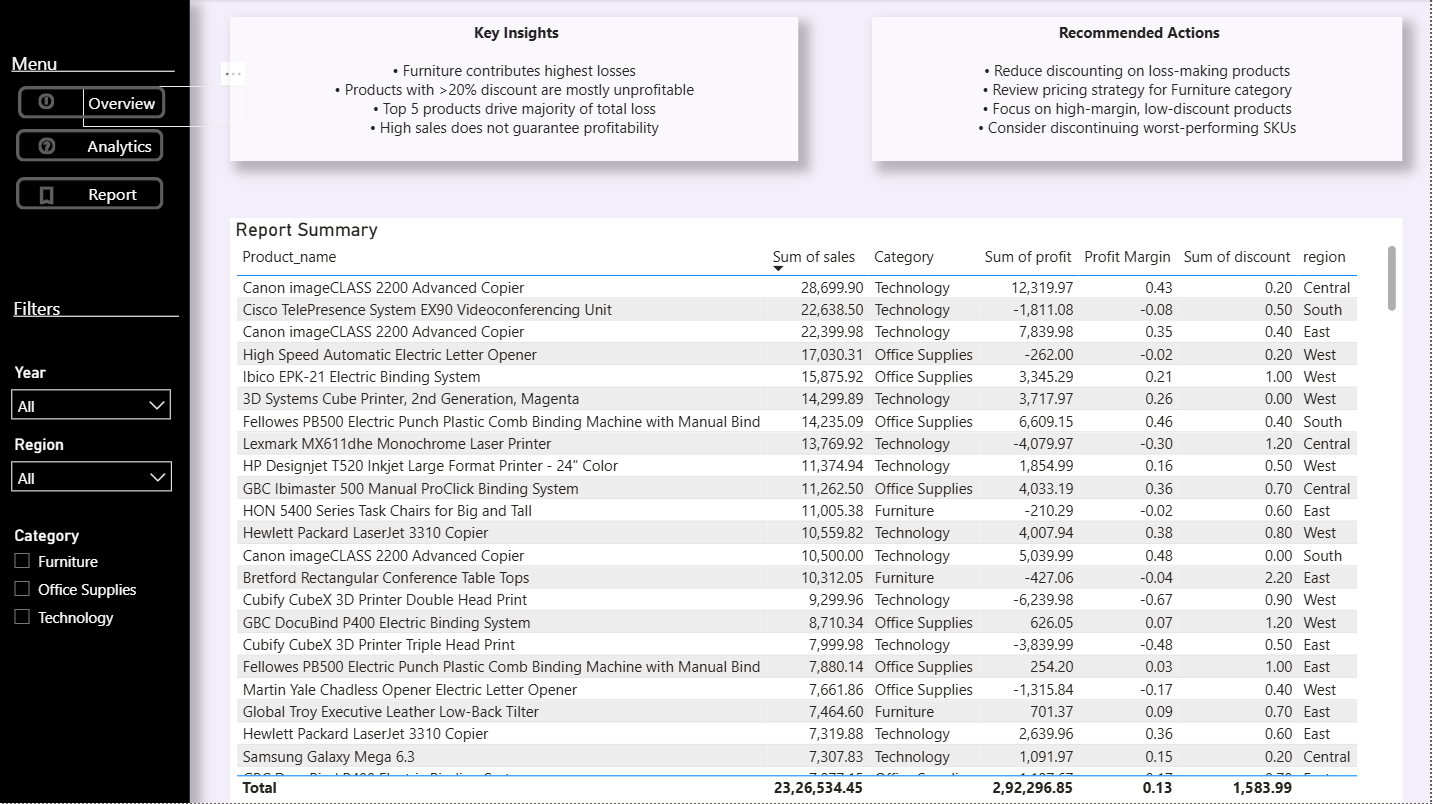

What the dashboard file says about the page in this screenshot:
{"tool":"powerbi","page":{"name":"Report","canvas":[1280,720],"ordinal":2},"visuals":[{"type":"tableEx","title":"Report Summary","fields":{"Values":["products_202604191955.Product_name","Sum(orders_202604191948.sales)","products_202604191955.Category","Sum(orders_202604191948.profit)","customers_202604191953.Profit Margin","Sum(orders_202604191948.discount)","customers_202604191953.region"]},"box":[205.8,196.2,1049.7,524.2],"z":0},{"type":"shape","box":[0,0,170,720.2],"z":1000},{"type":"slicer","fields":{"Values":["orders_202604191948.order_date.Variation.Date Hierarchy.Year"]},"box":[0,321.1,163.3,81],"z":2000},{"type":"textbox","box":[5.5,41.2,156.4,37],"z":3000},{"type":"textbox","box":[6.9,260.7,157.8,37],"z":4000},{"type":"slicer","fields":{"Values":["products_202604191955.Category"]},"box":[0,467.1,159,132.1],"z":5000},{"type":"slicer","fields":{"Values":["customers_202604191953.region"]},"box":[0,386.4,163.9,59.9],"z":6000},{"type":"textbox","box":[74.6,78.3,145.5,36.7],"z":7000},{"type":"textbox","box":[73.4,116.2,145.5,37.9],"z":8000},{"type":"textbox","box":[74.6,159,145.5,36.7],"z":9000},{"type":"actionButton","box":[30.6,80.7,58.7,22],"z":10000},{"type":"actionButton","box":[30.6,119.8,61.1,23.2],"z":11000},{"type":"actionButton","box":[29.3,163.9,61.1,24.5],"z":12000},{"type":"actionButton","box":[15.9,78.3,132.1,29.3],"z":13000},{"type":"actionButton","box":[14.7,116.2,132.1,29.3],"z":14000},{"type":"actionButton","box":[14.7,159,132.1,29.3],"z":15000},{"type":"textbox","box":[205.8,16.5,509.1,129],"z":16000},{"type":"textbox","box":[780.8,16.5,474.8,129],"z":17000}]}

Visuals, with their boxes on the page's 1280x720 design canvas (x1, y1, x2, y2). These are canvas units, not pixel positions in the 1433x804 screenshot, which may show the page scaled, cropped or inside an application window:
"Report Summary" tableEx: 206:196:1256:720
shape: 0:0:170:720
slicer - orders_202604191948.order_date.Variation.Date Hierarchy.Year: 0:321:163:402
textbox: 6:41:162:78
textbox: 7:261:165:298
slicer - products_202604191955.Category: 0:467:159:599
slicer - customers_202604191953.region: 0:386:164:446
textbox: 75:78:220:115
textbox: 73:116:219:154
textbox: 75:159:220:196
actionButton: 31:81:89:103
actionButton: 31:120:92:143
actionButton: 29:164:90:188
actionButton: 16:78:148:108
actionButton: 15:116:147:146
actionButton: 15:159:147:188
textbox: 206:16:715:146
textbox: 781:16:1256:146
